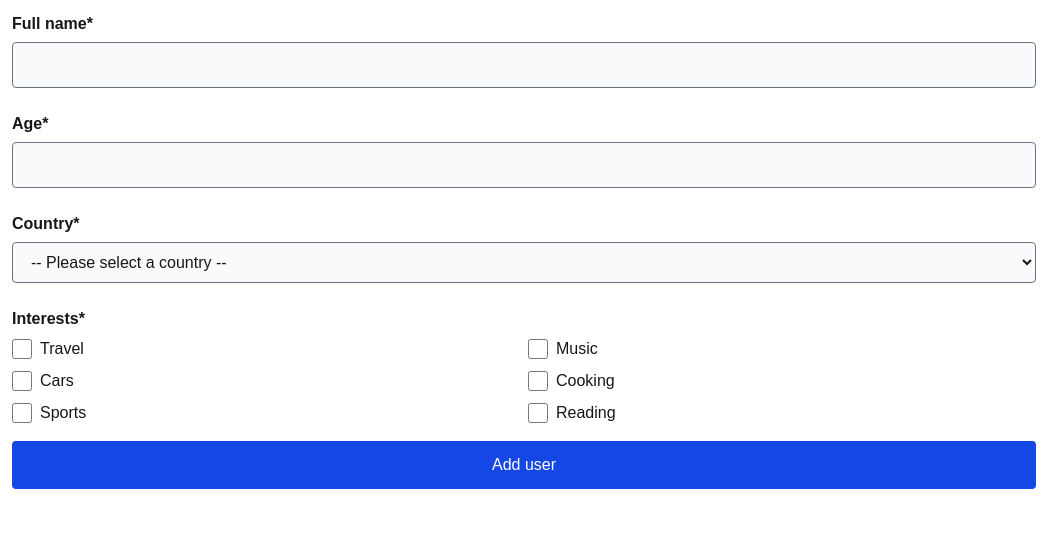
Scenario: AddUserForm Component › shows validation error when no interests are selected
Type "John Doe" into the field labelled "Full name*".
click(524, 65); type("John Doe")  # box 12,42 -> 1036,88
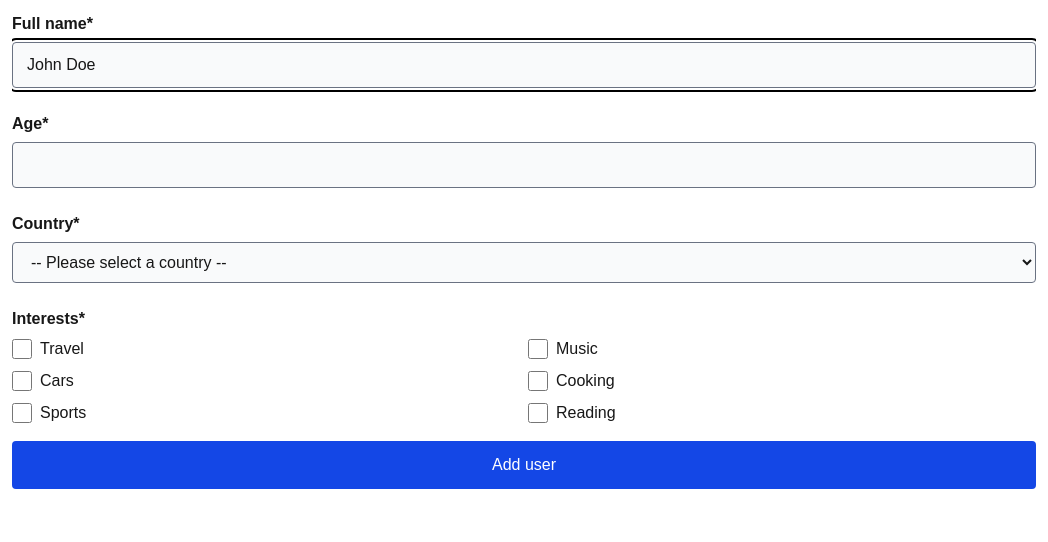
Type "25" into the number field labelled "Age*".
click(524, 165); type("25")  # box 12,142 -> 1036,188
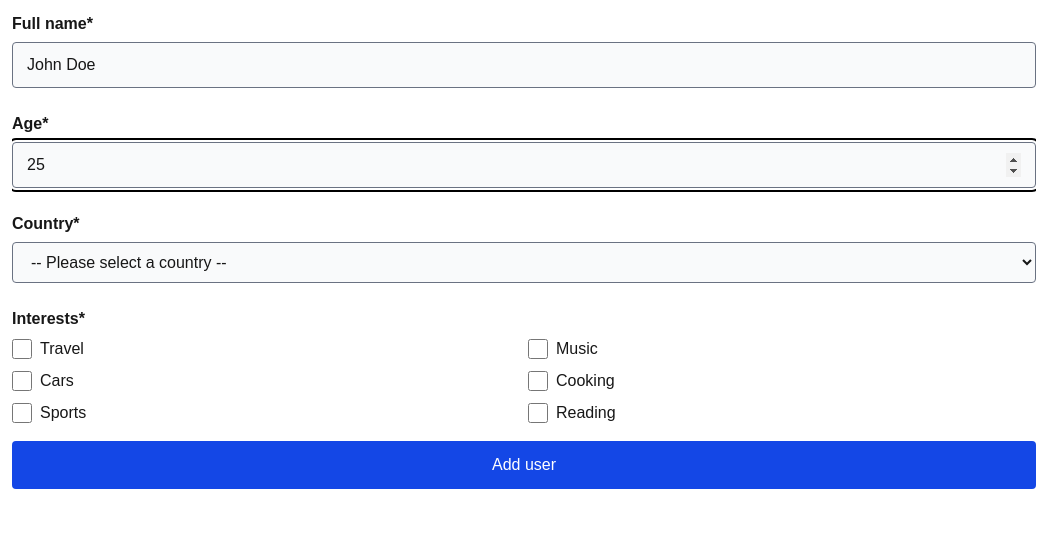
Select "United States" in the dropdown labelled "Country*" at (524, 262), box 12,242 -> 1036,283
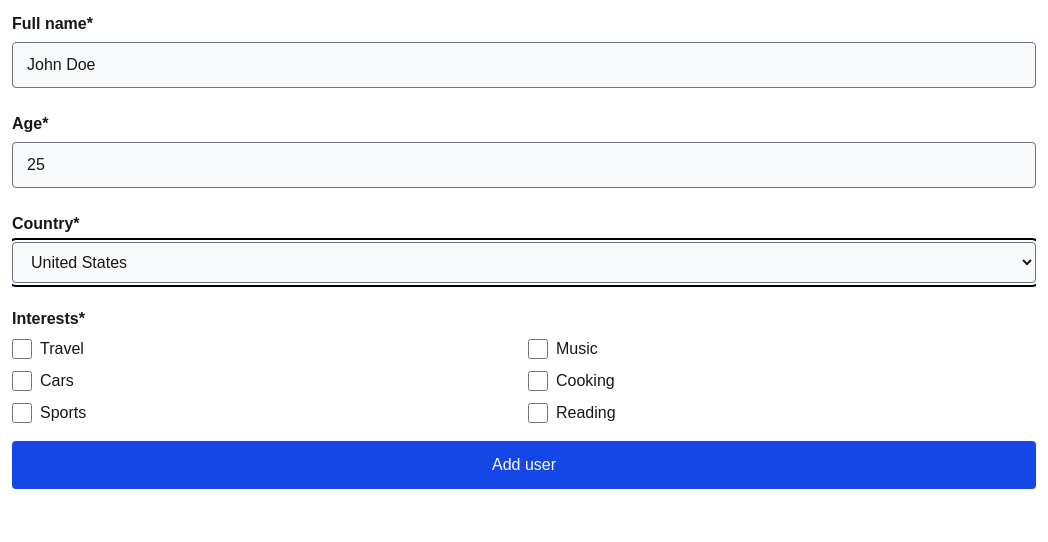
Click the button "Add user".
click(524, 465)  # box 12,441 -> 1036,489
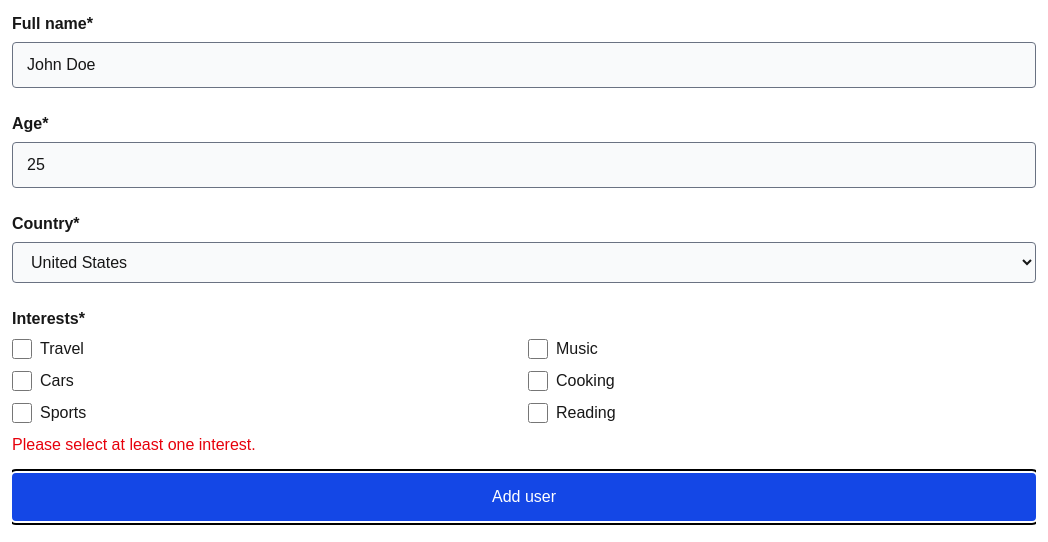
Result: the text "Please select at least one interest." is shown at 12,436 -> 256,453
